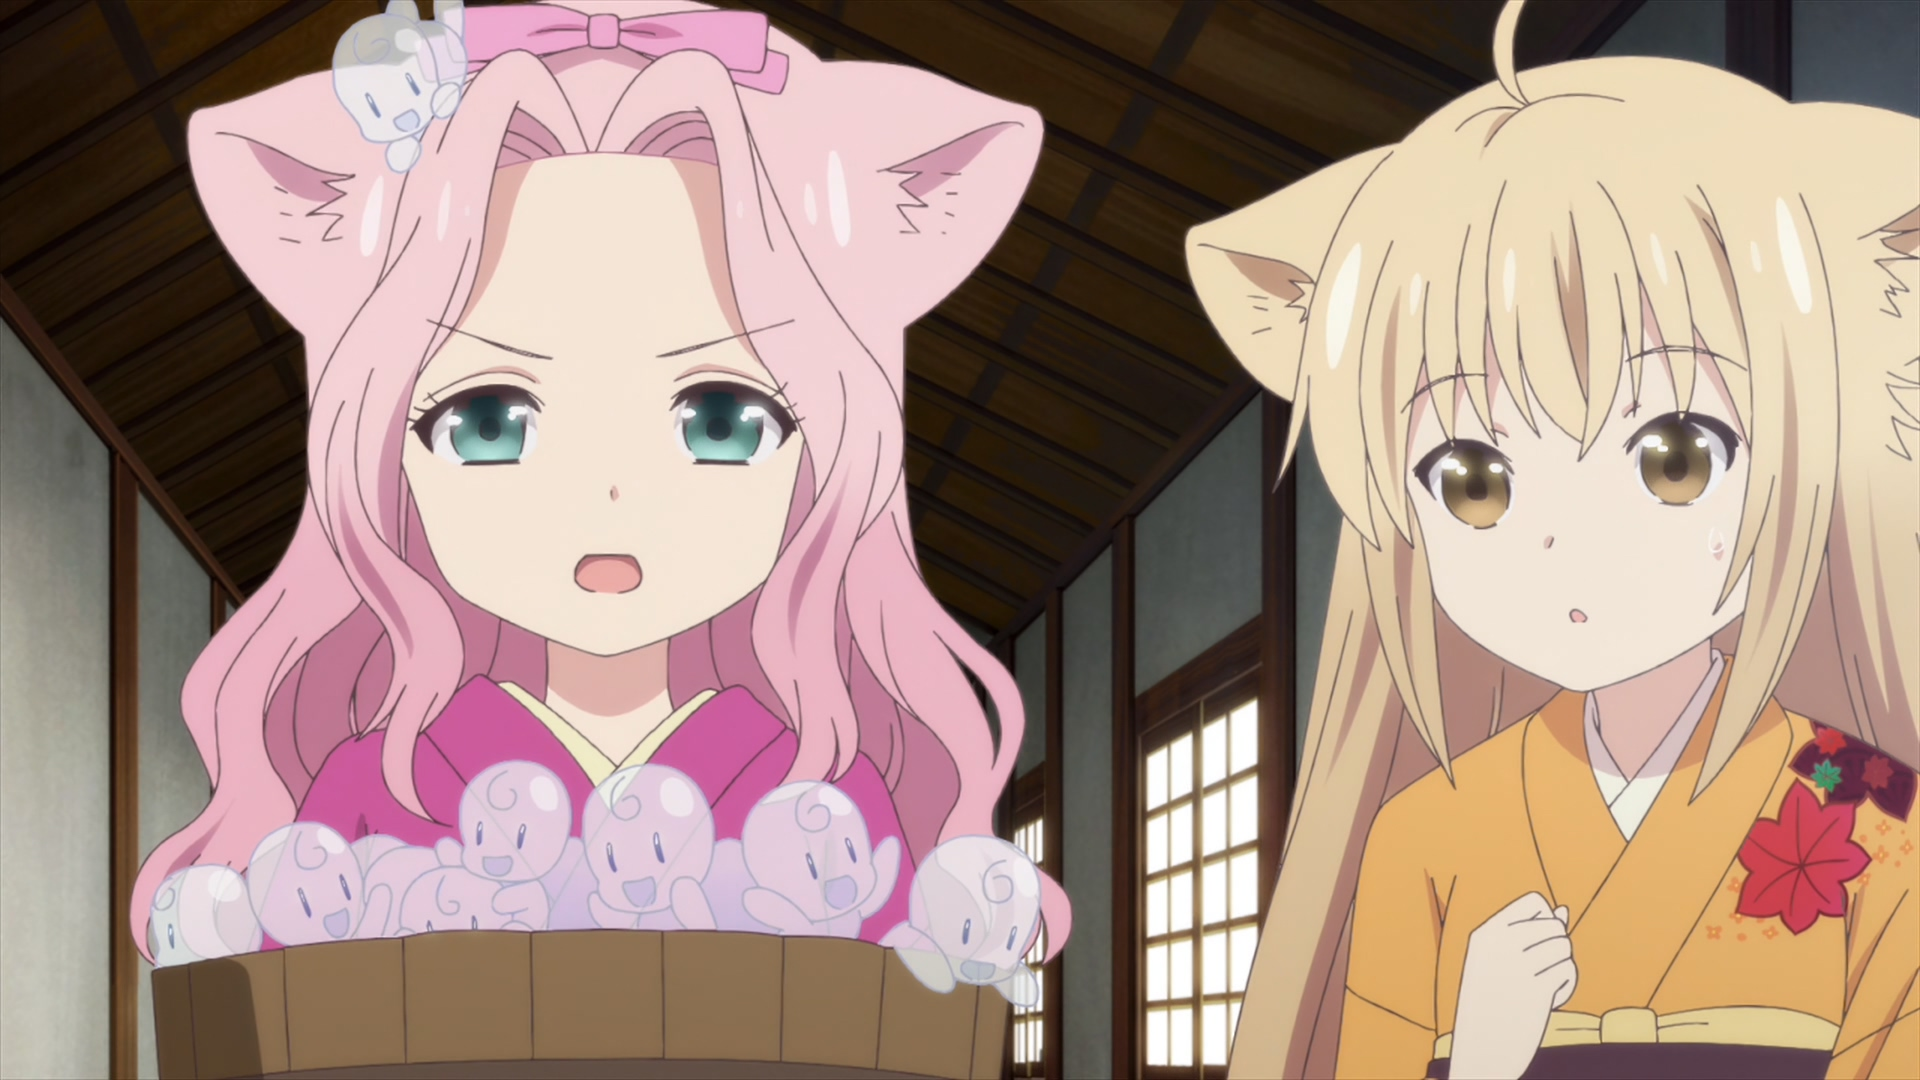柚: (1185, 1, 1920, 1080)
莲: (127, 1, 1071, 972)
